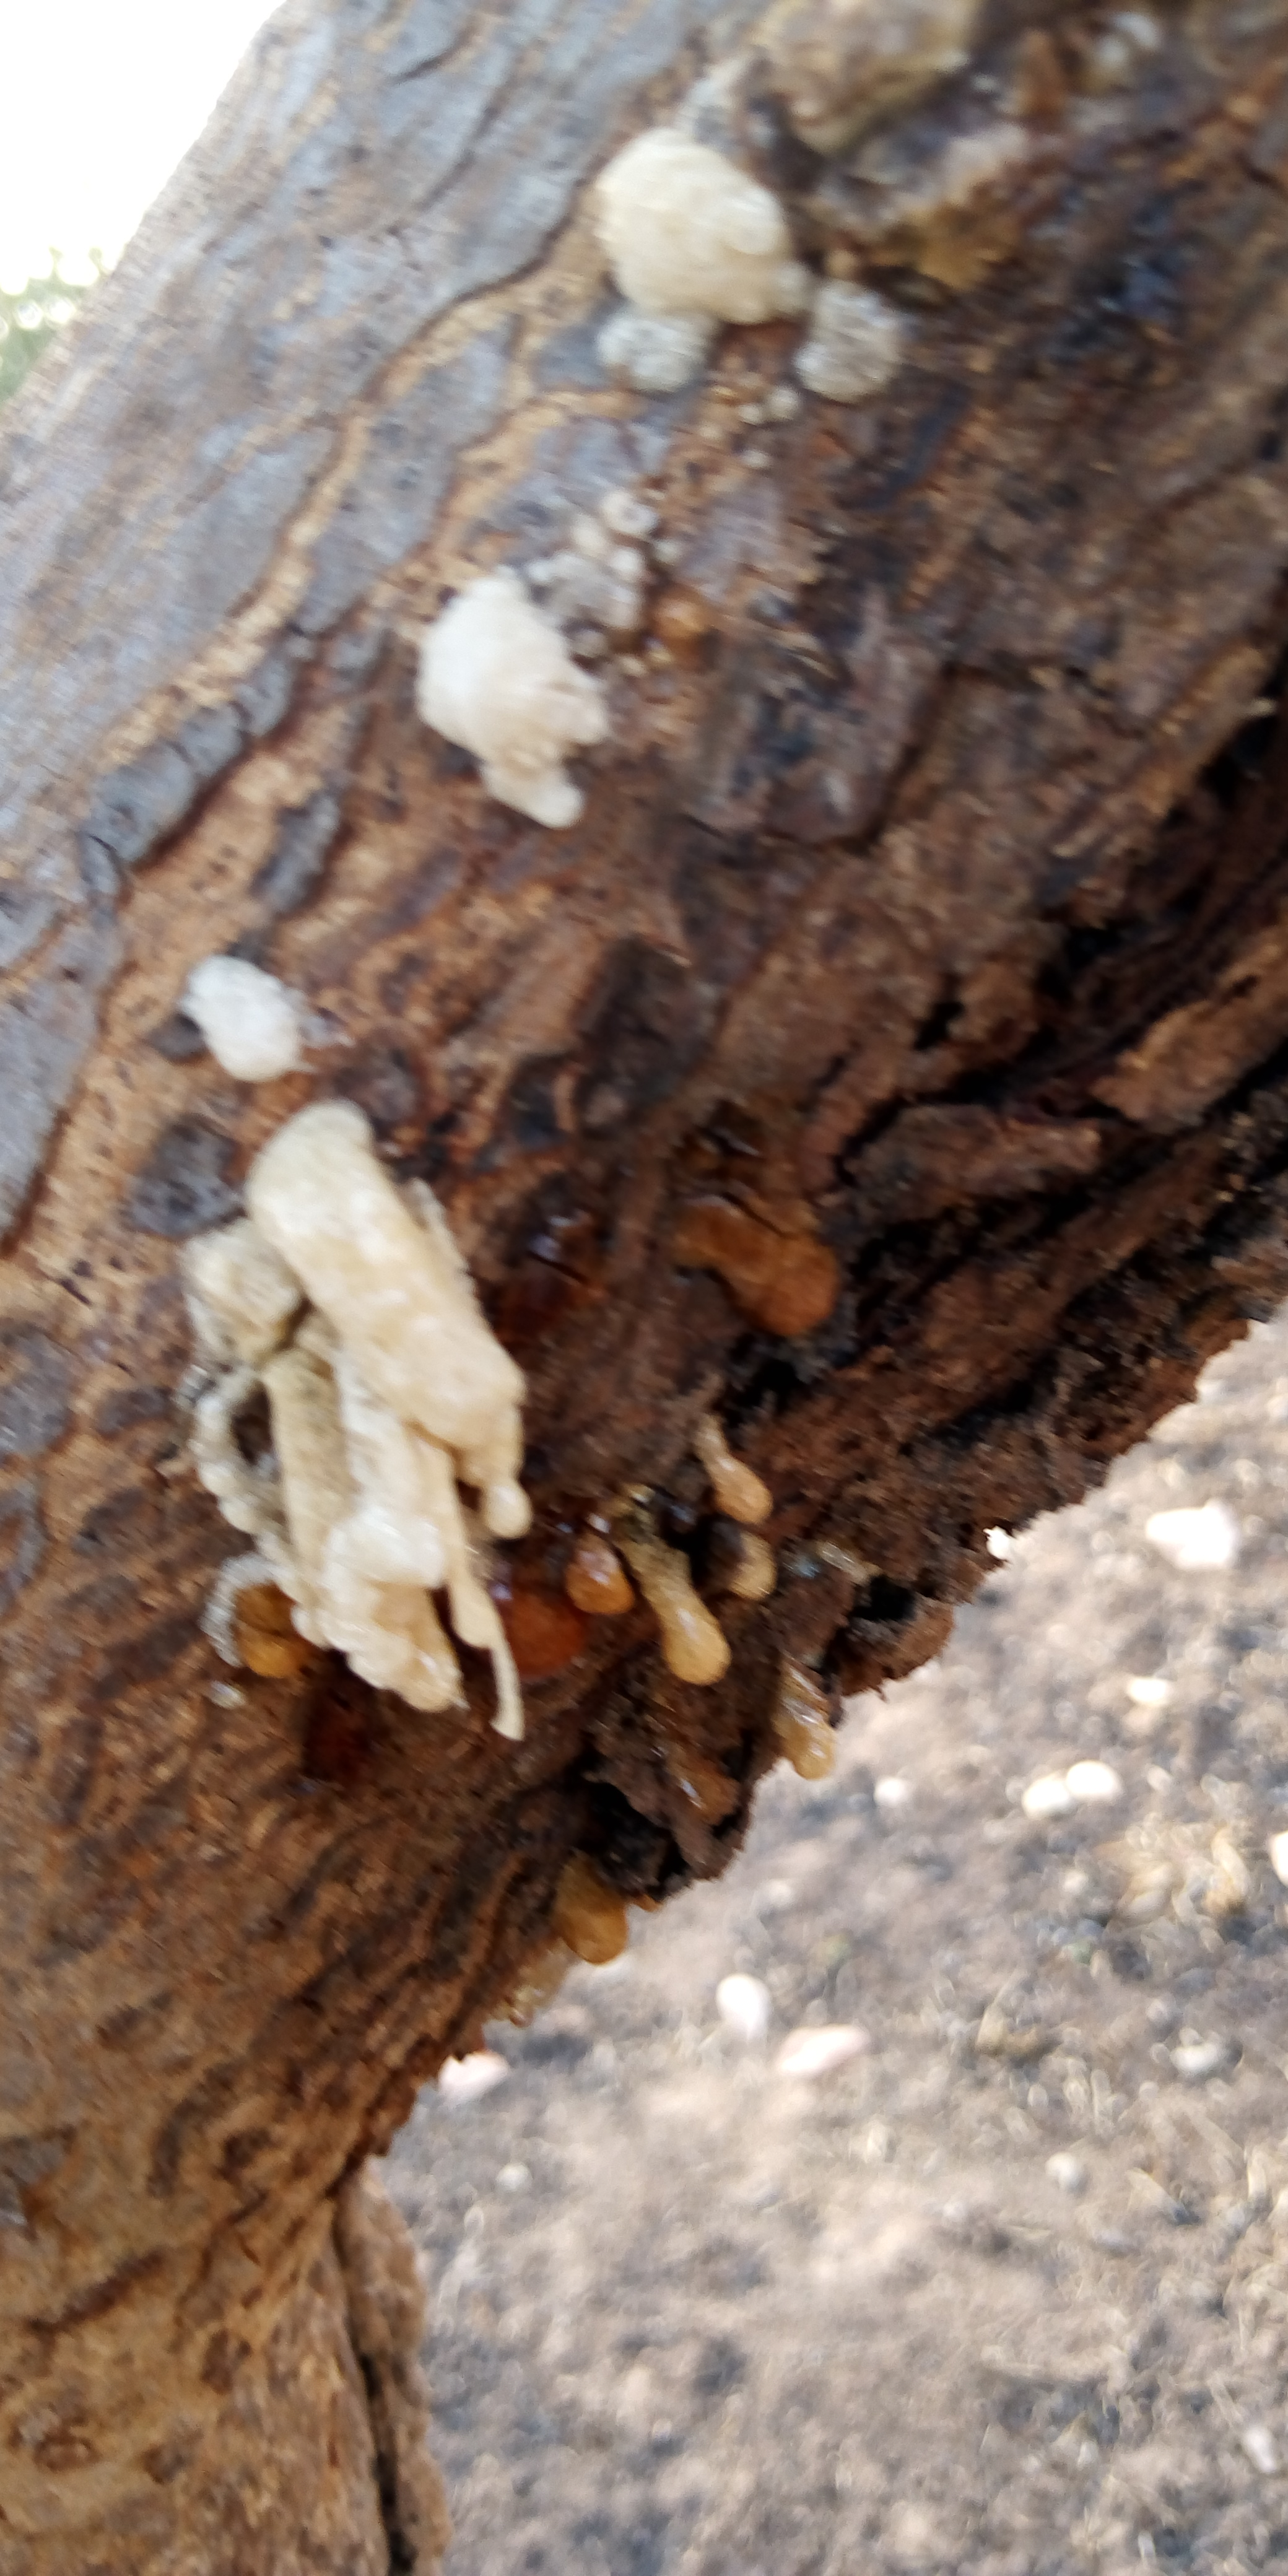Gommose: (554, 8, 1288, 1824)
